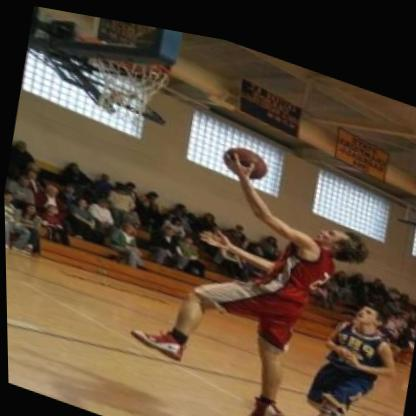basketball: (222, 133, 270, 180)
